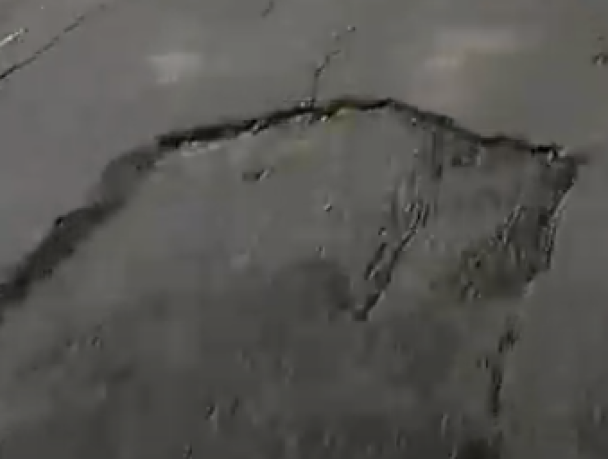Berlubang: (12, 90, 592, 350)
